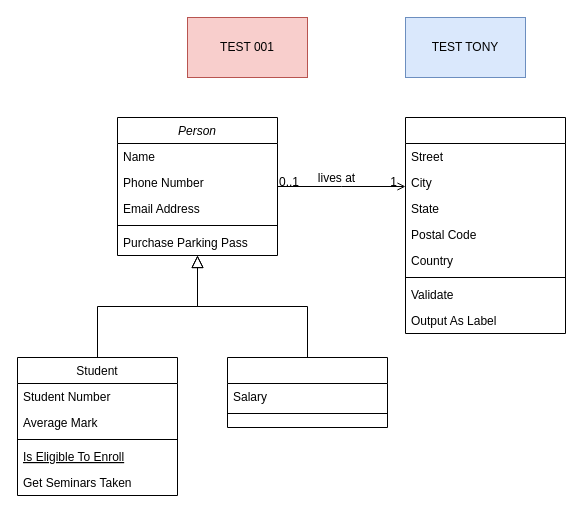
Image size: 583x516. Some labels were removed from this diagram. Each missing label, with the box of its shape:
Address: (404, 116, 566, 334)
Professor: (226, 356, 388, 428)
